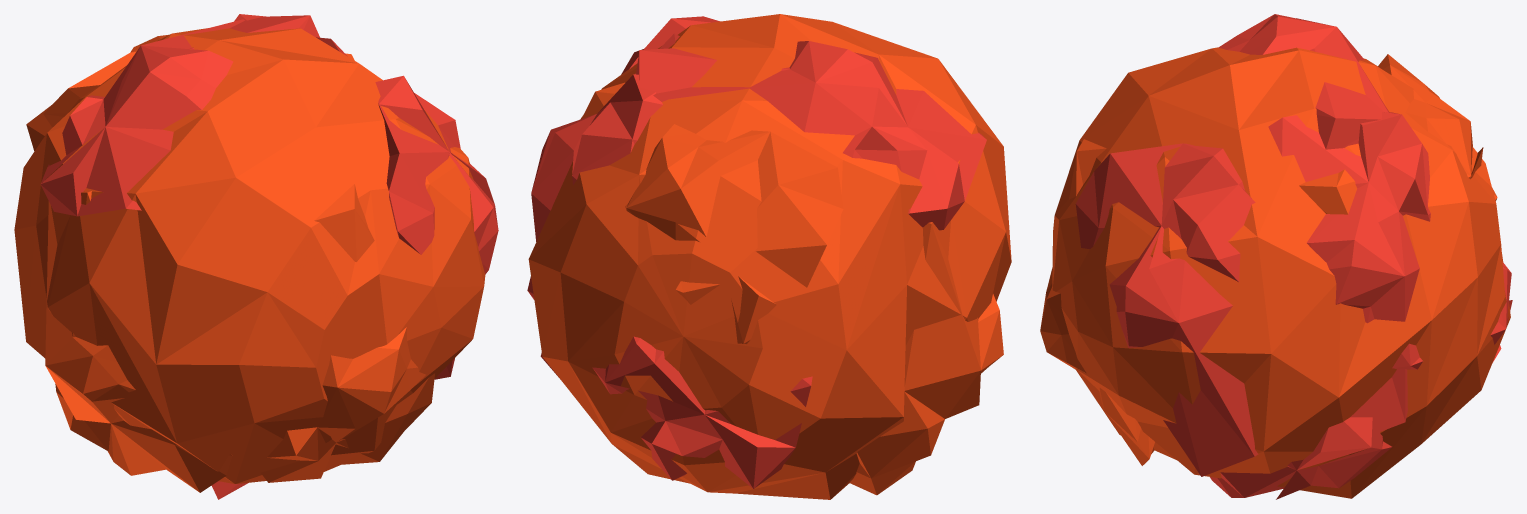
The model's file is mars.glb.
3 renders of one model, left to right at view 1: azimuth 30°, elevation 25°; view 2: azimuth 150°, elevation 25°; view 3: azimuth 270°, elevation 25°, orthographic. The views are drawn at different scales.
Parts seen in each view (by area): view 1: Node; view 2: Node; view 3: Node.
Part boxes in pixels (x1,y1,x2,y2): Node: [14, 14, 498, 499]; Node: [527, 14, 1011, 499]; Node: [1040, 14, 1512, 499].
Size of the model in its own units: 0.2694 by 0.2699 by 0.2793.
